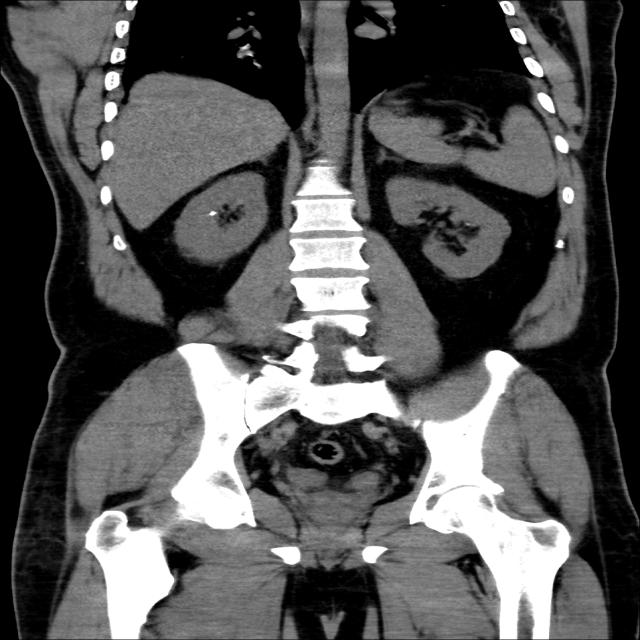kidneystone: (208, 210, 220, 216)
